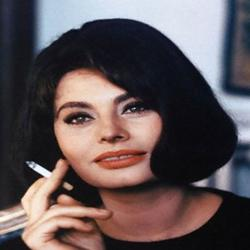smoking: (19, 158, 116, 250)
